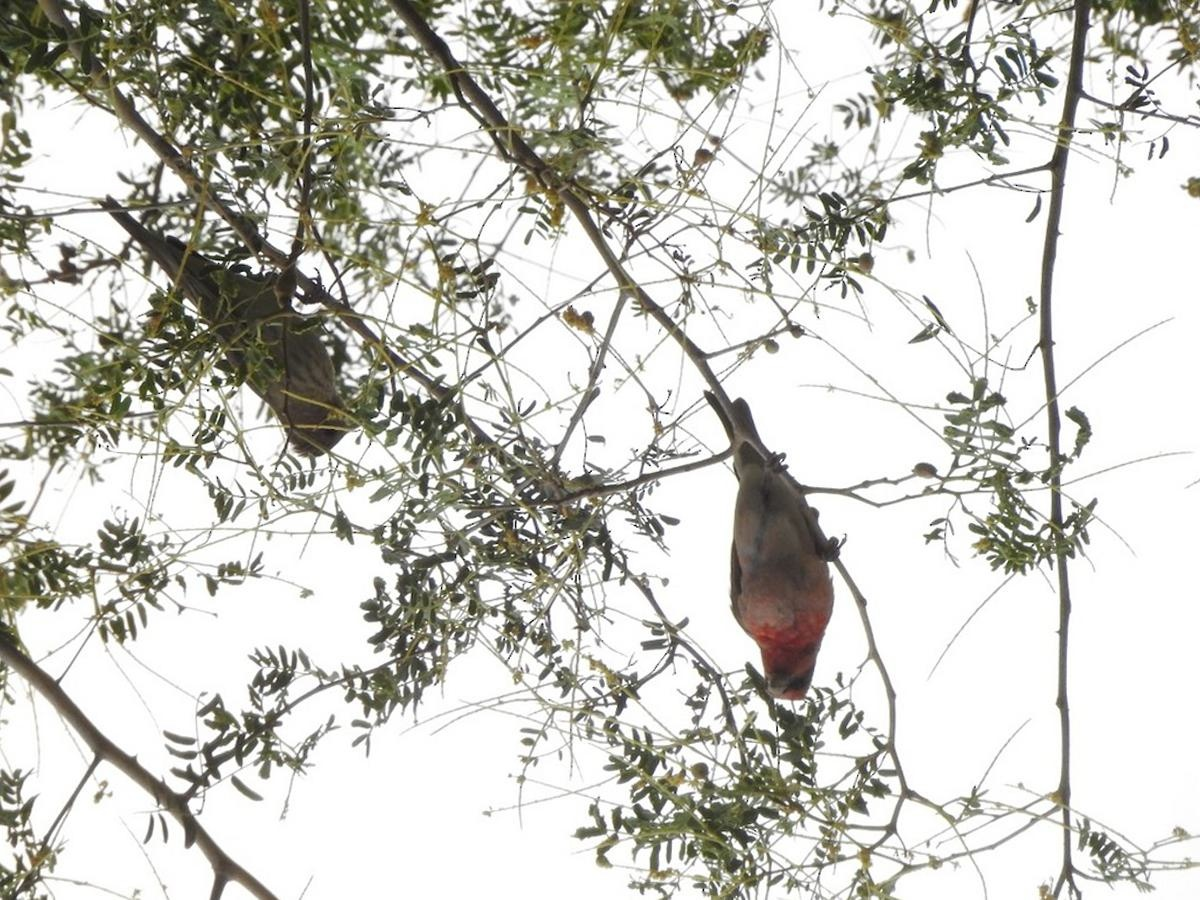rosefinch: (703, 421, 850, 732)
